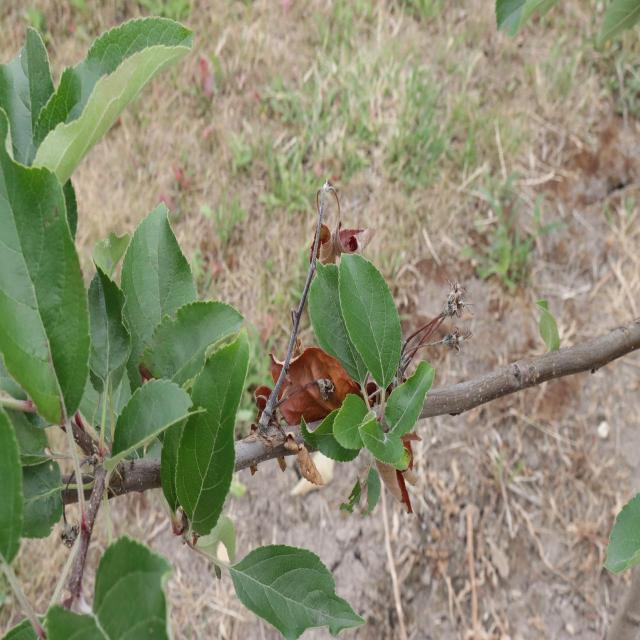-FireBlight-: (244, 361, 358, 418)
